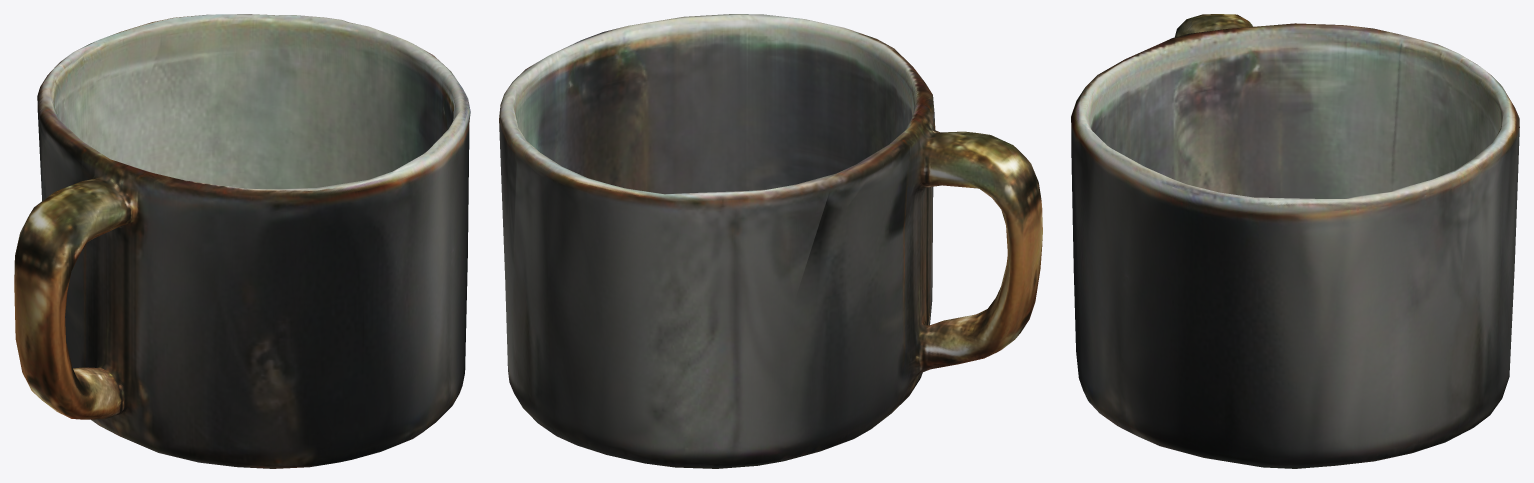
The model's file is cup_resized.dae.
3 renders of one model, left to right at view 1: azimuth 30°, elevation 25°; view 2: azimuth 150°, elevation 25°; view 3: azimuth 270°, elevation 25°, orthographic.
Parts seen in each view (by area): view 1: geometry_0; view 2: geometry_0; view 3: geometry_0.
Part boxes in pixels (box(x1,y1,x2,y2)): geometry_0: box(14, 14, 470, 468); geometry_0: box(499, 14, 1042, 468); geometry_0: box(1071, 14, 1519, 468).
Bounding box in the file's own units: 0.1 × 0.085 × 0.06.
1 material, 1 textured.
